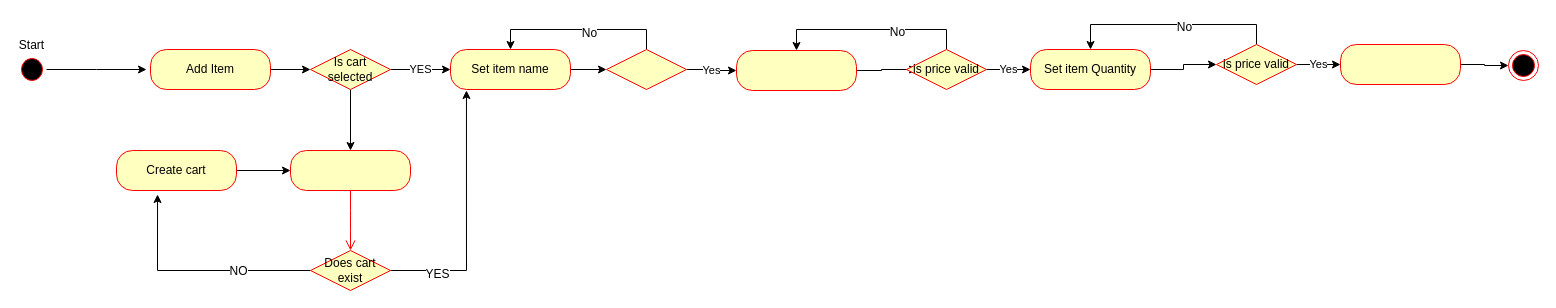
This 1556x308 diagram has some shape labels left out. The shapes that lost their labels are listed below. From the top down, each one's box as (x1, y1, x2, y2) in pixels, then its label:
(606, 48, 686, 90): Is name valid
(736, 50, 856, 90): Set Item price
(1340, 44, 1460, 84): Confirm add item
(290, 150, 410, 190): Select cart
